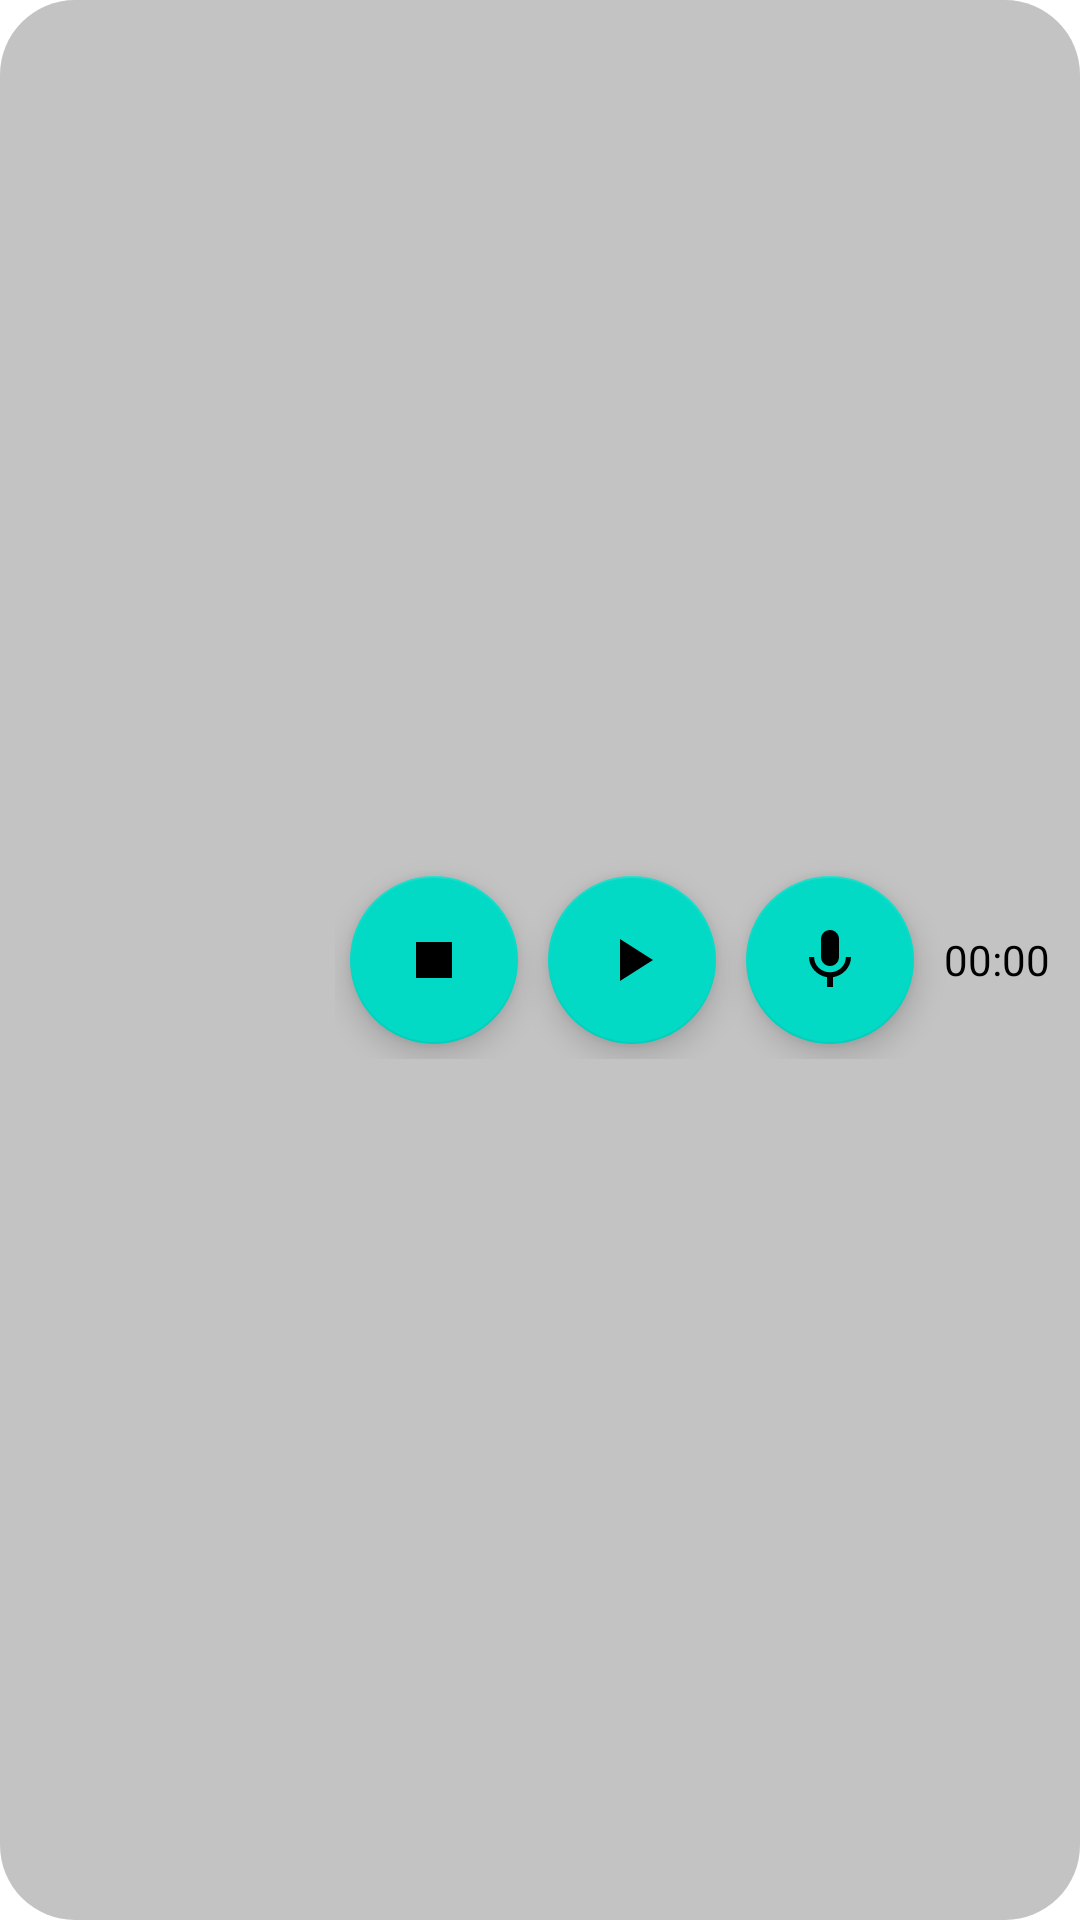

Where icons sit on this 1080 × 1920 app screen, as bbox(x1, y1, x2, y2):
play: bbox(548, 876, 716, 1044)
rec: bbox(746, 876, 914, 1044)
stop: bbox(350, 876, 518, 1044)
